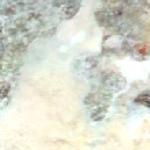alive: (2, 1, 148, 148)
